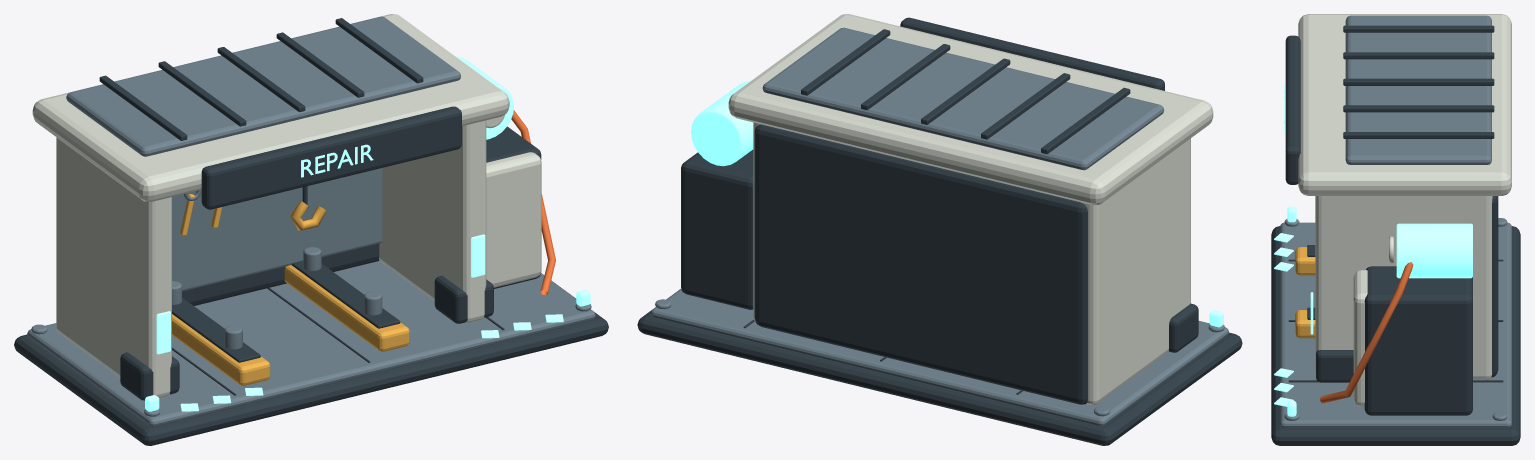
The model's file is repair-station.glb.
3 views of the same model, side by side, from view 1: azimuth 30°, elevation 25°; view 2: azimuth 150°, elevation 25°; view 3: azimuth 270°, elevation 25° (orthographic). The views are drawn at different scales.
Parts seen in each view (by area): view 1: Repair deck, Repair roof inset, Repair garage pier, Repair canopy, Repair back panel, Repair garage pier.001, Repair foundation, Repair sign frame, Repair side toolbox skin, Repair lift rail.001, Repair rear wall, Repair lift rail (+16 smaller); view 2: Repair rear wall, Repair roof inset, Repair canopy, Repair garage pier, Repair foundation, Repair deck, Repair side toolbox chassis, Repair compressor tank, Repair sign frame, Repair garage footing, Repair roof rib, Repair roof rib.001 (+3 smaller); view 3: Repair roof inset, Repair canopy, Repair garage pier.001, Repair side toolbox chassis, Repair deck, Repair foundation, Repair compressor tank, Repair sign frame, Repair side toolbox skin, Repair air hose, Repair rear wall, Repair garage footing.001 (+7 smaller).
Boxes of the visible parts, x1,y1,x2,y2 form: Repair deck: (27,261,595,426); Repair roof inset: (66,16,460,156); Repair garage pier: (56,137,171,397); Repair canopy: (32,14,509,201); Repair back panel: (172,168,382,291); Repair garage pier.001: (379,120,486,322); Repair foundation: (14,273,608,445); Repair sign frame: (201,106,461,209); Repair side toolbox skin: (486,152,541,287); Repair lift rail.001: (284,265,409,351); Repair rear wall: (182,243,379,305); Repair lift rail: (172,314,270,385); Repair rear wall: (754,124,1087,404); Repair roof inset: (762,27,1164,170); Repair canopy: (728,14,1213,205); Repair garage pier: (1082,138,1190,404); Repair foundation: (637,289,1242,445); Repair deck: (651,289,1228,426); Repair side toolbox chassis: (681,149,753,309); Repair compressor tank: (691,80,753,166); Repair sign frame: (900,17,1164,90); Repair garage footing: (1169,303,1198,352); Repair roof rib: (1041,87,1130,154); Repair roof rib.001: (981,73,1070,139); Repair roof inset: (1345,15,1491,164); Repair canopy: (1298,14,1511,195); Repair garage pier.001: (1315,196,1492,379); Repair side toolbox chassis: (1364,266,1472,415); Repair deck: (1280,222,1511,428); Repair foundation: (1271,226,1520,445); Repair compressor tank: (1396,223,1472,278); Repair sign frame: (1285,35,1300,184); Repair side toolbox skin: (1353,270,1367,406); Repair air hose: (1320,262,1413,403); Repair rear wall: (1491,196,1498,377); Repair garage footing.001: (1316,350,1353,382).
Size of the model in its own units: 4.35 by 2.38 by 2.18.
